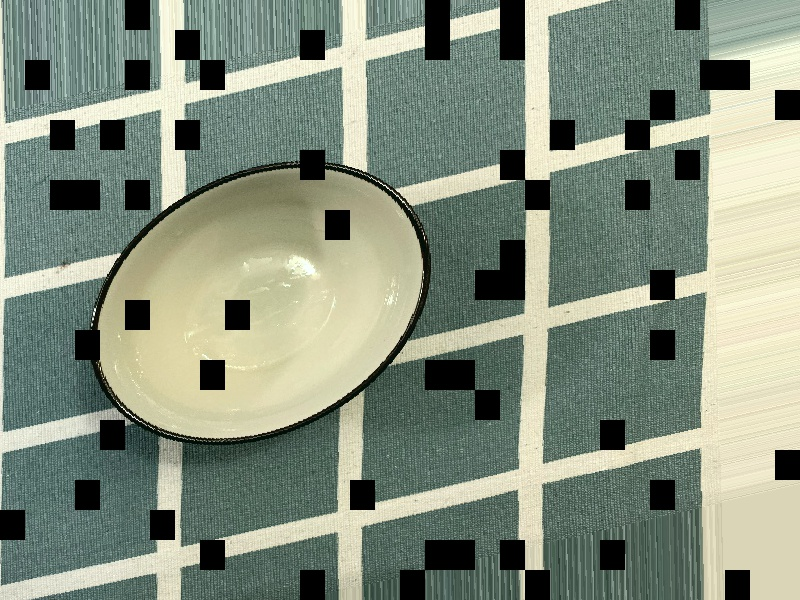bowl_small: (74, 119, 444, 489)
